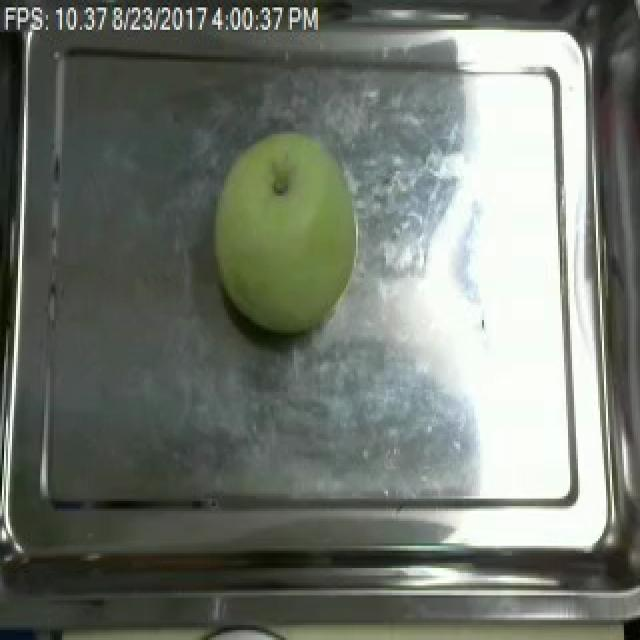50-_ripeness: (213, 120, 383, 358)
